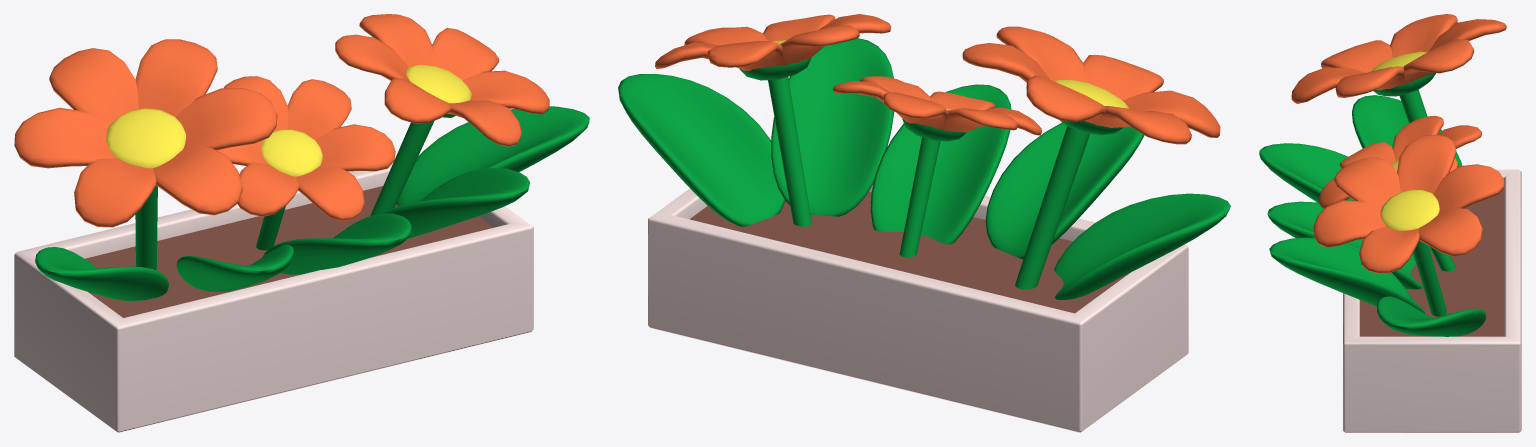
File: Town_17_Vase_With_Flowers_2.glb
3 renders of one model, left to right at view 1: azimuth 30°, elevation 25°; view 2: azimuth 150°, elevation 25°; view 3: azimuth 270°, elevation 25°, orthographic. The views are drawn at different scales.
Parts seen in each view (by area): view 1: Town_17_Vase_With_Flowers_2; view 2: Town_17_Vase_With_Flowers_2; view 3: Town_17_Vase_With_Flowers_2.
Part boxes in pixels (left/top/right/bottom): Town_17_Vase_With_Flowers_2: left=14, top=14, right=589, bottom=432; Town_17_Vase_With_Flowers_2: left=618, top=14, right=1230, bottom=432; Town_17_Vase_With_Flowers_2: left=1259, top=14, right=1521, bottom=432.
Size of the model in its own units: 1.22 by 0.6446 by 0.5761.
Materials: 1 (1 with a texture image).
